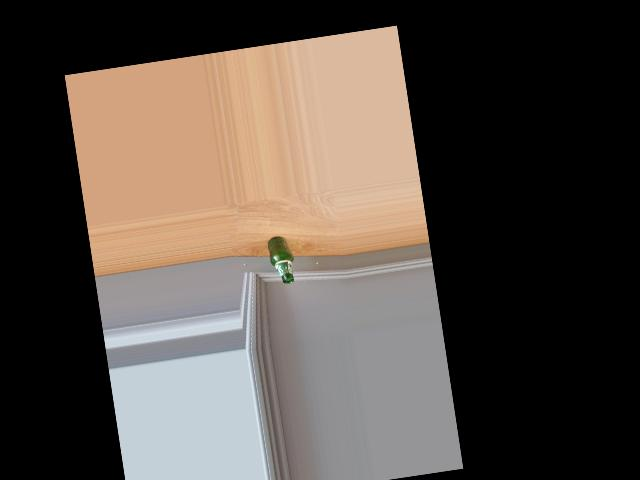beer: (266, 234, 297, 285)
